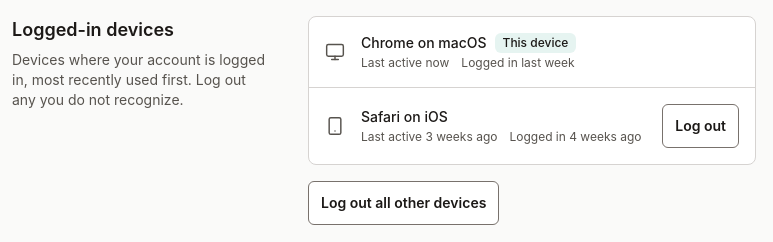
Test case: Devices › logs out another device and drops it from the list
Expected: the text "Safari on iOS" is shown, [361, 107, 448, 127]
Click the button with aria-label "Log out Safari on iOS" at (701, 126), box [662, 104, 739, 148]
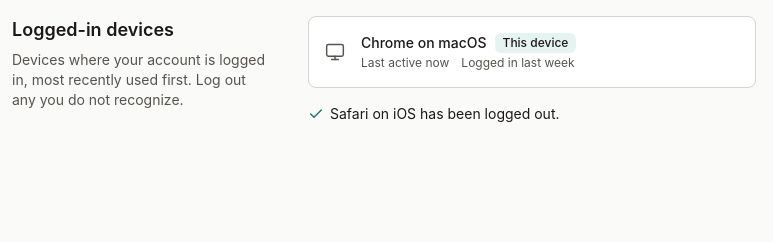
Expected: the text "Safari on iOS has been logged out." is shown, [308, 105, 560, 122]
